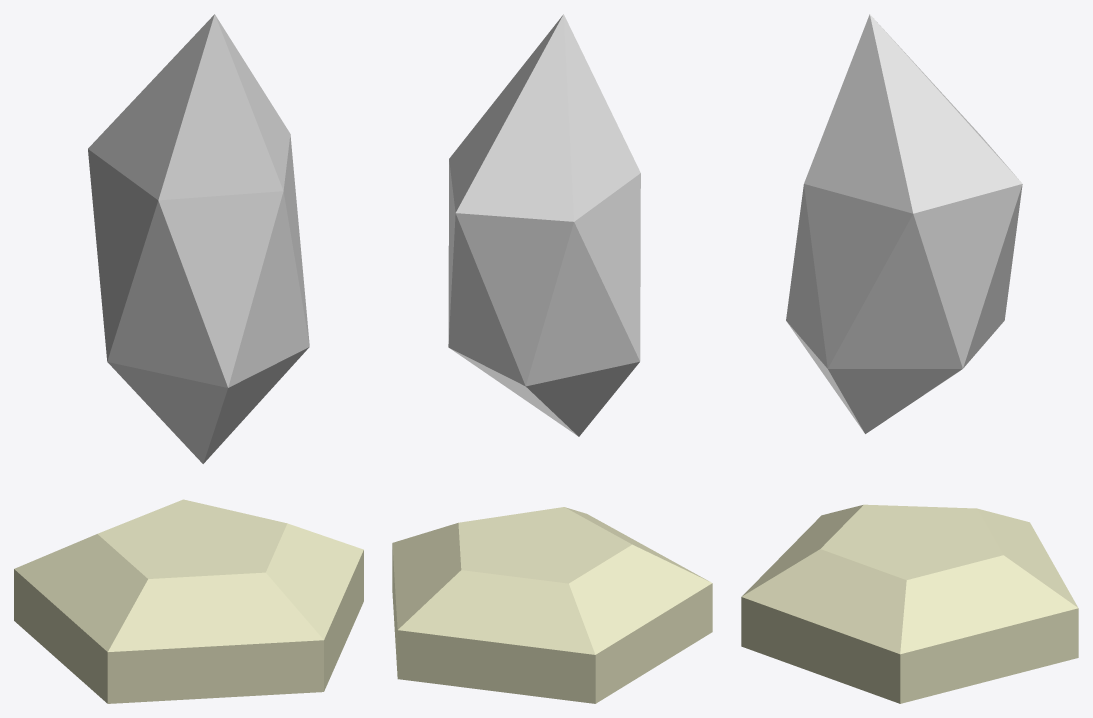
The model's file is CrystalCalls_Crystal_Pad.fbx.
The picture shows the model from 3 angles, left to right: view 1: azimuth 30°, elevation 25°; view 2: azimuth 150°, elevation 25°; view 3: azimuth 270°, elevation 25°; orthographic projection. The views are drawn at different scales.
Parts seen in each view (by area): view 1: Icosphere.001, Cylinder; view 2: Icosphere.001, Cylinder; view 3: Icosphere.001, Cylinder.
Boxes of the visible parts, left/top/right/bottom form: Icosphere.001: left=88, top=14, right=309, bottom=463; Cylinder: left=14, top=499, right=363, bottom=703; Icosphere.001: left=448, top=14, right=640, bottom=436; Cylinder: left=392, top=507, right=712, bottom=703; Icosphere.001: left=786, top=14, right=1022, bottom=433; Cylinder: left=741, top=504, right=1078, bottom=703.
Bounding box in the file's own units: 136 × 280 × 140.
